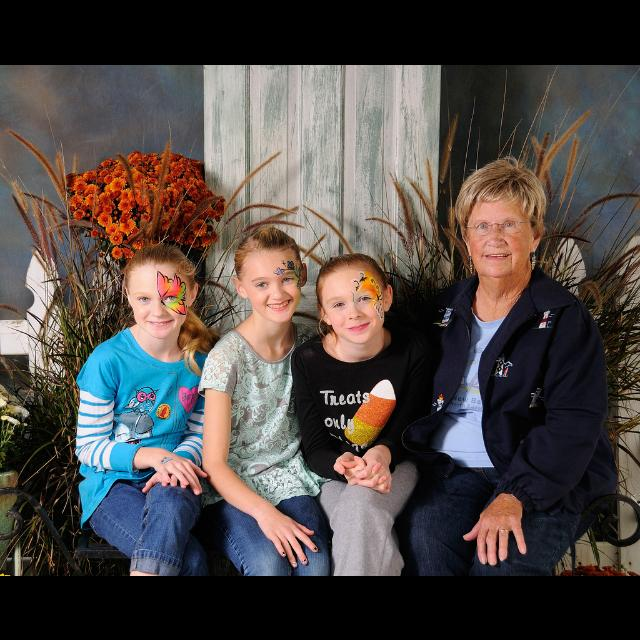Flower: (52, 154, 230, 248)
